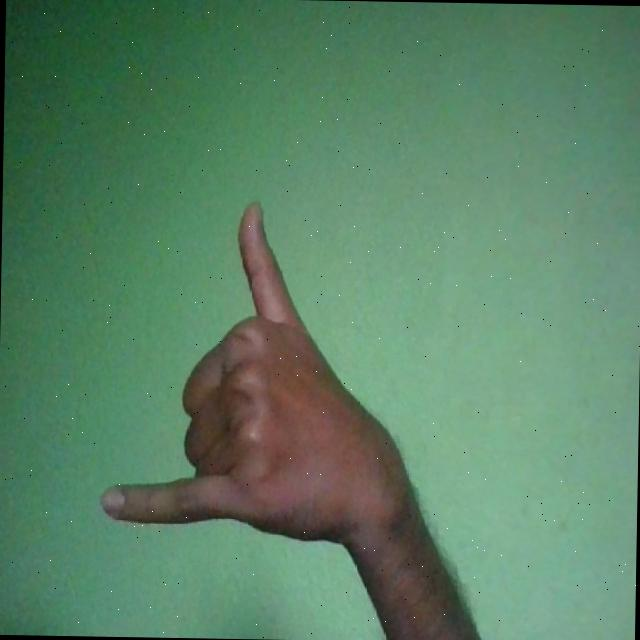Call Me: (100, 198, 418, 544)
